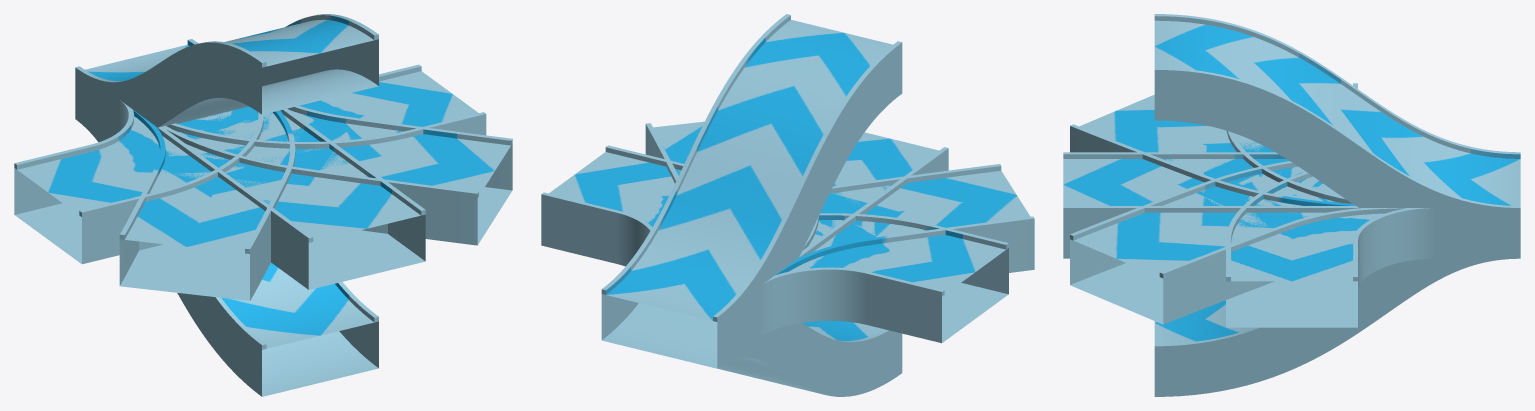
Rendered from Road_update (2).fbx.
The picture shows the model from 3 angles, left to right: view 1: azimuth 30°, elevation 25°; view 2: azimuth 150°, elevation 25°; view 3: azimuth 270°, elevation 25°; orthographic projection. The views are drawn at different scales.
Parts seen in each view (by area): view 1: Road__1_, Road_Mesh_Holder.004, Road_Mesh_Holder.005, Road_Mesh_Holder, Road, Road_Mesh_Holder.003, Road_Mesh_Holder.001; view 2: Road__1_, Road_Mesh_Holder.003, Road_Mesh_Holder.005, Road, Road_Mesh_Holder.001, Road_Mesh_Holder.004, Road_Mesh_Holder; view 3: Road__1_, Road_Mesh_Holder, Road_Mesh_Holder.001, Road, Road_Mesh_Holder.004, Road_Mesh_Holder.005, Road_Mesh_Holder.003.
Boxes of the visible parts, left/top/right/bottom form: Road__1_: left=75, top=14, right=378, bottom=136; Road_Mesh_Holder.004: left=75, top=41, right=425, bottom=289; Road_Mesh_Holder.005: left=119, top=110, right=295, bottom=300; Road_Mesh_Holder: left=75, top=40, right=512, bottom=245; Road: left=75, top=40, right=378, bottom=396; Road_Mesh_Holder.003: left=14, top=100, right=263, bottom=264; Road_Mesh_Holder.001: left=75, top=41, right=486, bottom=148; Road__1_: left=601, top=14, right=902, bottom=368; Road_Mesh_Holder.003: left=761, top=213, right=1008, bottom=343; Road_Mesh_Holder.005: left=775, top=164, right=1034, bottom=275; Road: left=601, top=281, right=902, bottom=396; Road_Mesh_Holder.001: left=541, top=145, right=684, bottom=266; Road_Mesh_Holder.004: left=601, top=132, right=948, bottom=366; Road_Mesh_Holder: left=601, top=121, right=818, bottom=368; Road__1_: left=1154, top=14, right=1520, bottom=258; Road_Mesh_Holder: left=1070, top=154, right=1519, bottom=324; Road_Mesh_Holder.001: left=1226, top=171, right=1434, bottom=327; Road: left=1154, top=154, right=1520, bottom=396; Road_Mesh_Holder.004: left=1063, top=152, right=1518, bottom=258; Road_Mesh_Holder.005: left=1070, top=94, right=1355, bottom=205; Road_Mesh_Holder.003: left=1226, top=83, right=1357, bottom=203.
Bounding box in the file's own units: 4500 × 3550 × 4500.
Materials: 1 (1 with a texture image).
